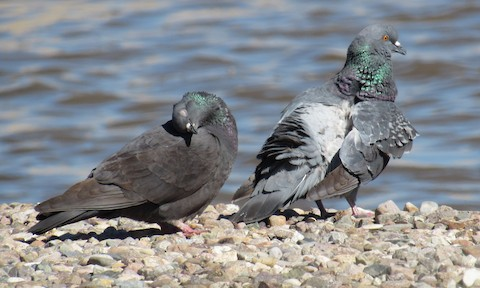pigeon: (220, 15, 422, 243), (25, 82, 242, 247)
